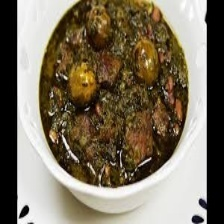sabzi: (38, 1, 189, 185)
